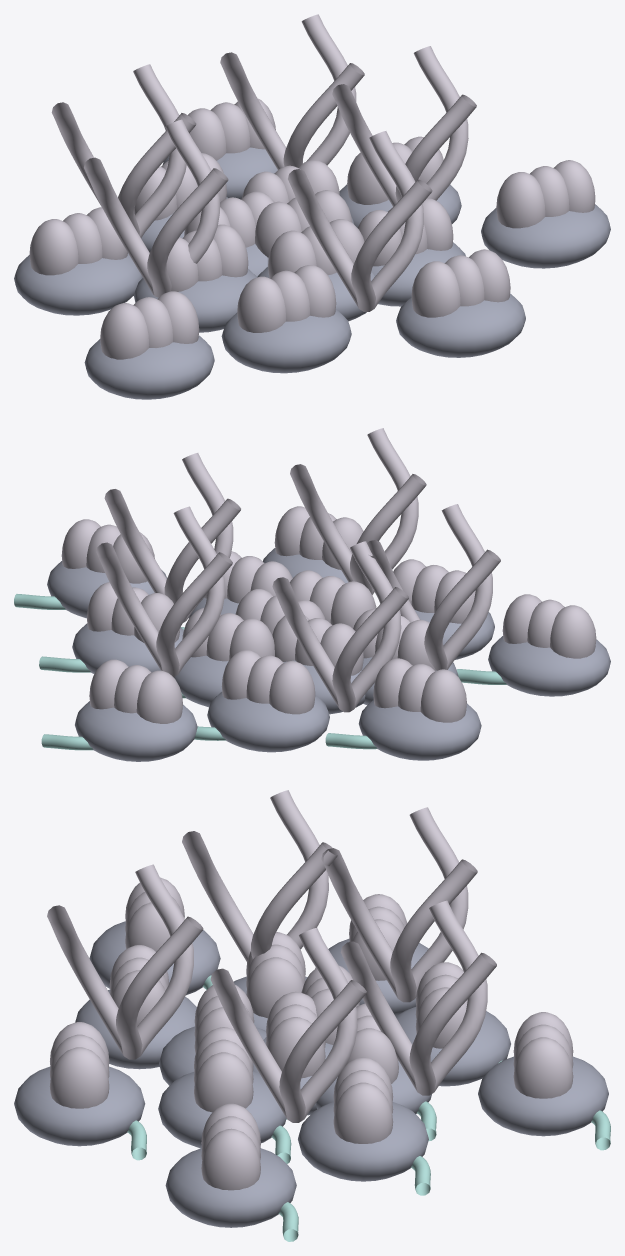
The model's file is bio_acid_mat_24_near.glb.
The picture shows the model from 3 angles, top to bottom: view 1: azimuth 30°, elevation 25°; view 2: azimuth 150°, elevation 25°; view 3: azimuth 270°, elevation 25°; orthographic projection. The views are drawn at different scales.
Visible parts, largest first — view 1: Spiral filament.006, Spiral filament.012, Spiral filament.009, Spiral filament, Spiral filament.003, Microbial cushion.007, Microbial cushion.012, Microbial cushion.010, Microbial cushion.013, Microbial cushion.009, Reaction vesicle.030, Reaction vesicle.021 (+17 smaller); view 2: Spiral filament.009, Spiral filament.003, Spiral filament.006, Spiral filament.012, Spiral filament, Microbial cushion.006, Microbial cushion.009, Microbial cushion.012, Microbial cushion.011, Reaction vesicle.027, Reaction vesicle.018, Reaction vesicle.036 (+22 smaller); view 3: Spiral filament, Spiral filament.006, Spiral filament.009, Spiral filament.003, Spiral filament.012, Microbial cushion.010, Microbial cushion.011, Microbial cushion.013, Microbial cushion.008, Reaction vesicle.033, Reaction vesicle.039, Reaction vesicle.030 (+18 smaller).
Boxes of the visible parts, left/top/right/bottom form: Spiral filament.006: left=288, top=131, right=432, bottom=311; Spiral filament.012: left=84, top=119, right=228, bottom=297; Spiral filament.009: left=220, top=14, right=364, bottom=169; Spiral filament: left=332, top=46, right=476, bottom=206; Spiral filament.003: left=51, top=64, right=196, bottom=237; Microbial cushion.007: left=221, top=309, right=351, bottom=373; Microbial cushion.012: left=84, top=335, right=214, bottom=399; Microbial cushion.010: left=396, top=293, right=525, bottom=357; Microbial cushion.013: left=481, top=204, right=610, bottom=268; Microbial cushion.009: left=14, top=253, right=142, bottom=315; Reaction vesicle.030: left=411, top=249, right=510, bottom=317; Reaction vesicle.021: left=237, top=265, right=336, bottom=332; Spiral filament.009: left=96, top=506, right=232, bottom=677; Spiral filament.003: left=272, top=541, right=408, bottom=712; Spiral filament.006: left=290, top=428, right=426, bottom=594; Spiral filament.012: left=367, top=504, right=500, bottom=670; Spiral filament: left=104, top=453, right=240, bottom=622; Microbial cushion.006: left=207, top=692, right=329, bottom=752; Microbial cushion.009: left=358, top=700, right=481, bottom=760; Microbial cushion.012: left=488, top=636, right=610, bottom=696; Microbial cushion.011: left=75, top=701, right=197, bottom=761; Reaction vesicle.027: left=373, top=658, right=466, bottom=722; Reaction vesicle.018: left=221, top=650, right=315, bottom=714; Reaction vesicle.036: left=502, top=594, right=596, bottom=658; Spiral filament: left=210, top=928, right=366, bottom=1122; Spiral filament.006: left=47, top=864, right=203, bottom=1059; Spiral filament.009: left=340, top=900, right=496, bottom=1095; Spiral filament.003: left=321, top=807, right=477, bottom=1002; Spiral filament.012: left=182, top=790, right=337, bottom=961; Microbial cushion.010: left=14, top=1066, right=145, bottom=1146; Microbial cushion.011: left=478, top=1056, right=608, bottom=1136; Microbial cushion.013: left=165, top=1148, right=296, bottom=1227; Microbial cushion.008: left=298, top=1102, right=428, bottom=1181; Reaction vesicle.033: left=513, top=1012, right=573, bottom=1098; Reaction vesicle.039: left=201, top=1103, right=260, bottom=1190; Reaction vesicle.030: left=49, top=1022, right=109, bottom=1108.
Bounding box in the file's own units: 2.33 × 0.7414 × 2.
